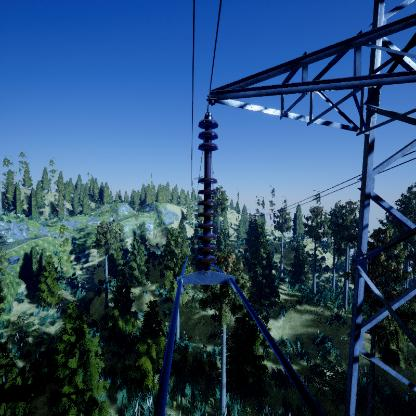insulator: (194, 118, 219, 268)
